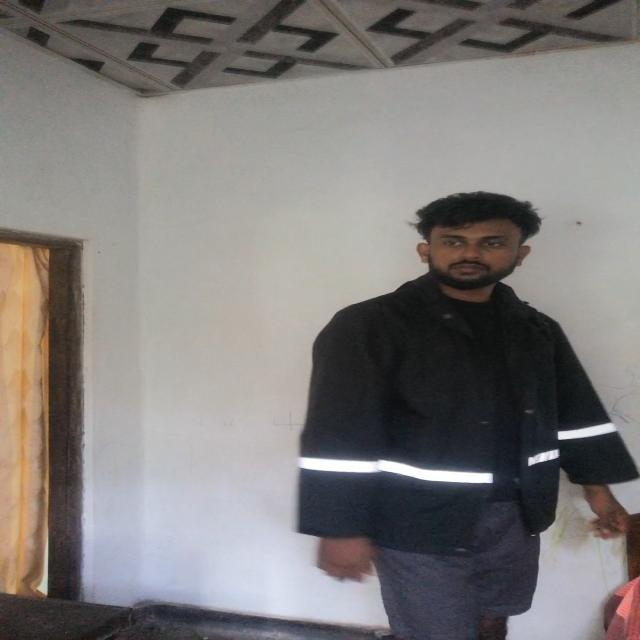Jacket_Wearer: (296, 271, 636, 539)
